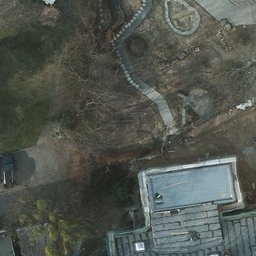car: (1, 152, 15, 188)
